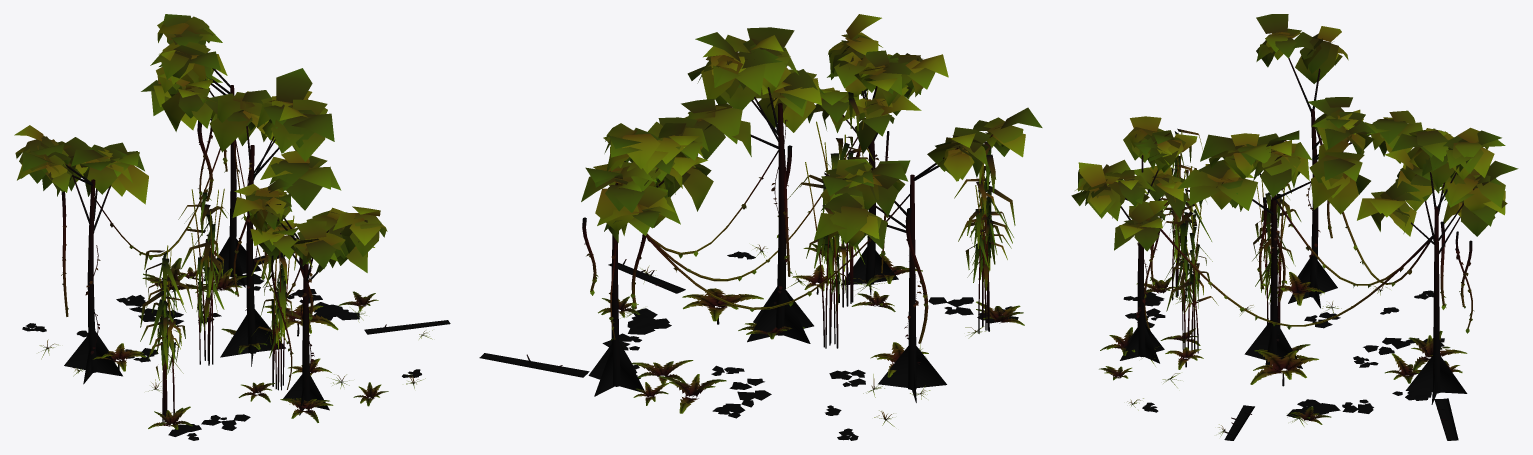
File: patch_understory.glb
3 renders of one model, left to right at view 1: azimuth 30°, elevation 25°; view 2: azimuth 150°, elevation 25°; view 3: azimuth 270°, elevation 25°, orthographic. The views are drawn at different scales.
Visible parts, largest first — view 1: patch_understory; view 2: patch_understory; view 3: patch_understory.
Part boxes in pixels (box(x1,y1,x2,y2)): patch_understory: box(14, 14, 450, 440); patch_understory: box(479, 14, 1042, 440); patch_understory: box(1071, 14, 1518, 440).
Size of the model in its own units: 21.36 by 13.35 by 20.75.
1 material, 1 textured.
